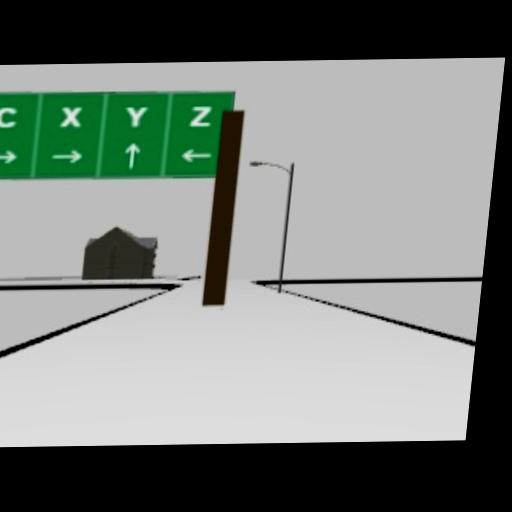C: (0, 105, 18, 126)
Left: (178, 147, 213, 161)
Right: (49, 147, 85, 163), (0, 147, 19, 162)
Straight: (122, 140, 141, 167)
X: (58, 104, 84, 125)
Y: (123, 103, 149, 126)
Z: (187, 104, 212, 126)
